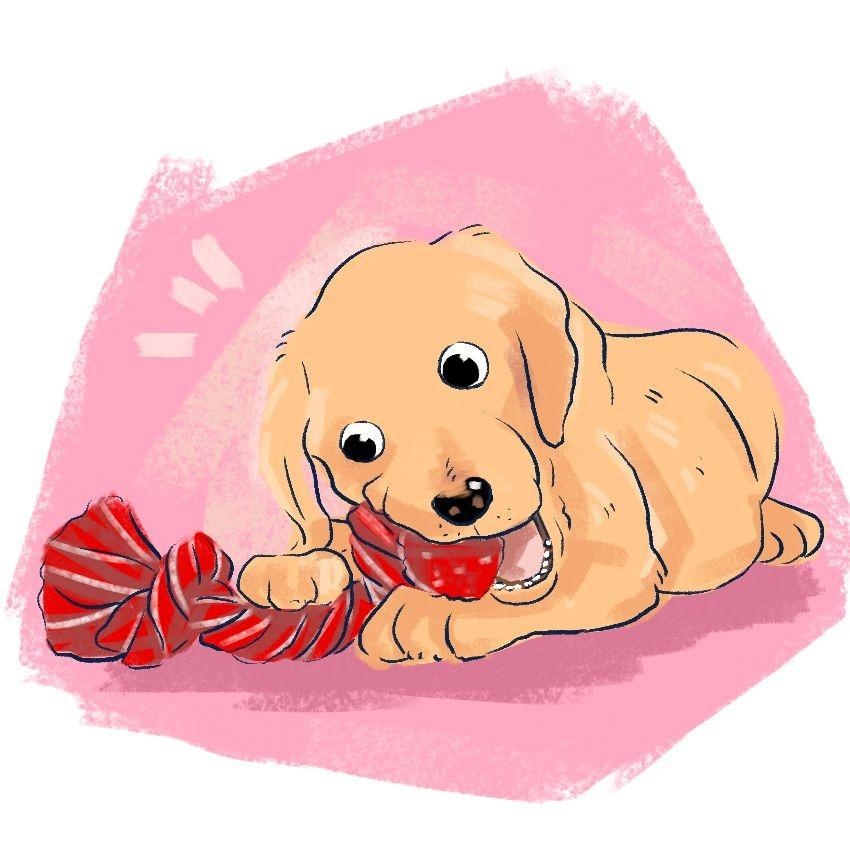puppy-dog: (239, 223, 825, 672)
